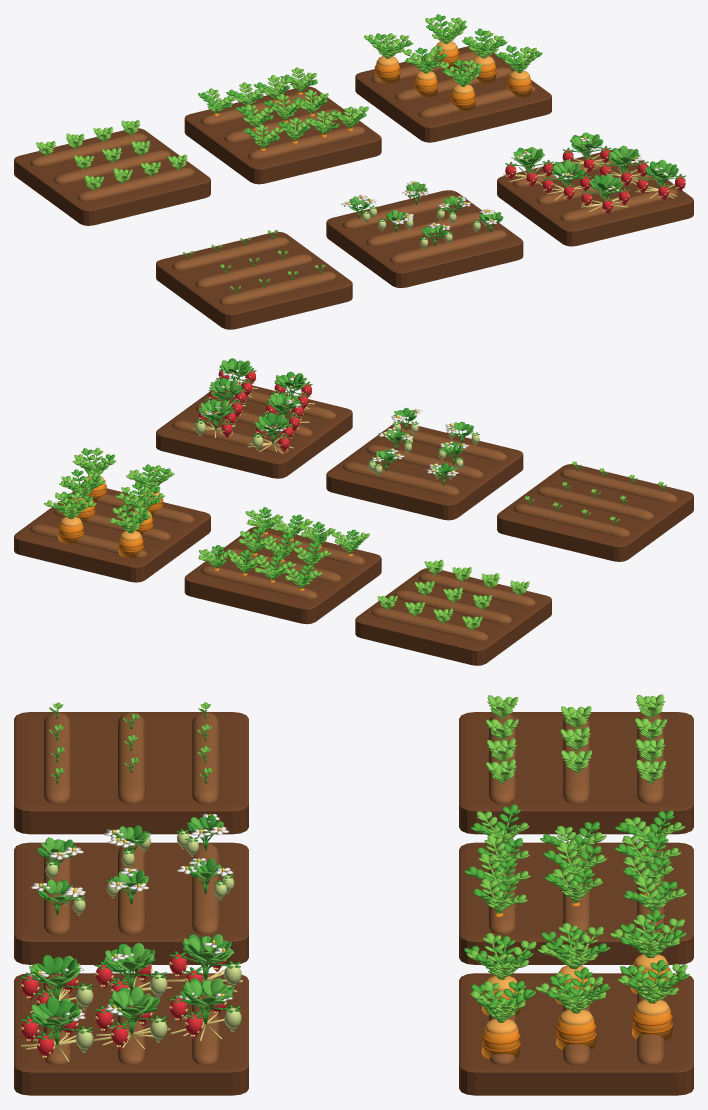
The model's file is cultures3.glb.
3 renders of one model, top to bottom at view 1: azimuth 30°, elevation 25°; view 2: azimuth 150°, elevation 25°; view 3: azimuth 270°, elevation 25°, orthographic. The views are drawn at different scales.
Visible parts, largest first — view 1: terre.003, terre.004, terre, terre.001, terre.005, terre.002, sillon.009, sillon.010, sillon.011, sillon.002, sillon.014, sillon (+10 smaller); view 2: terre.003, terre.004, terre, terre.001, terre.005, terre.002, sillon.011, sillon.010, sillon.009, sillon, sillon.001, sillon.003 (+12 smaller); view 3: terre.003, terre, terre.002, terre.004, terre.005, terre.001, sillon.010, sillon.009, sillon.011, sillon.012, sillon.013, sillon.014 (+35 smaller).
Part boxes in pixels (box(x1,y1,x2,y2)): terre.003: box(156, 231, 352, 329); terre.004: box(326, 190, 523, 287); terre: box(14, 128, 210, 225); terre.001: box(184, 86, 381, 184); terre.005: box(497, 148, 693, 246); terre.002: box(355, 46, 551, 142); sillon.009: box(172, 237, 289, 270); sillon.010: box(195, 254, 312, 287); sillon.011: box(219, 271, 336, 304); sillon.002: box(77, 167, 194, 201); sillon.014: box(390, 230, 507, 263); sillon: box(30, 133, 147, 166); terre.003: box(497, 464, 693, 561); terre.004: box(326, 422, 523, 520); terre: box(355, 568, 551, 665); terre.001: box(184, 526, 381, 624); terre.005: box(156, 382, 352, 478); terre.002: box(14, 487, 210, 582); sillon.011: box(560, 469, 677, 502); sillon.010: box(537, 486, 654, 519); sillon.009: box(513, 503, 630, 537); sillon: box(371, 607, 488, 641); sillon.001: box(395, 590, 512, 623); sillon.003: box(201, 566, 317, 599); terre.003: box(14, 712, 248, 834); terre: box(459, 712, 693, 834); terre.002: box(459, 973, 693, 1095); terre.004: box(14, 842, 248, 964); terre.005: box(14, 973, 248, 1095); terre.001: box(459, 842, 693, 964); sillon.010: box(118, 712, 144, 803); sillon.009: box(192, 712, 218, 803); sillon.011: box(44, 712, 70, 803); sillon.012: box(192, 843, 218, 934); sillon.013: box(118, 844, 144, 934); sillon.014: box(44, 849, 70, 934).
Size of the model in its own units: 6.9 by 0.8205 by 5.5.
